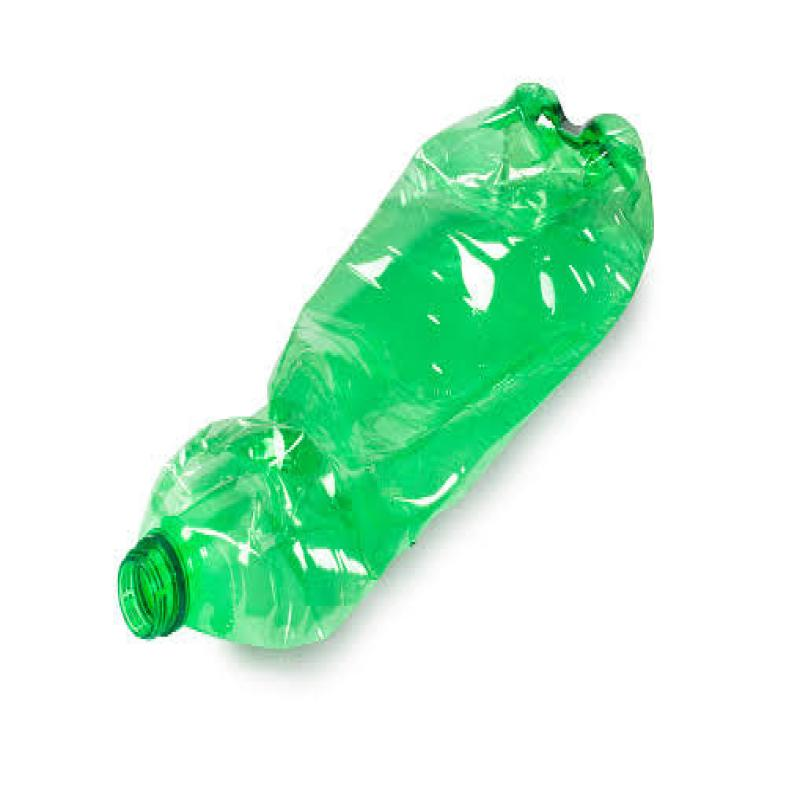plastic bottle: (115, 83, 657, 653)
